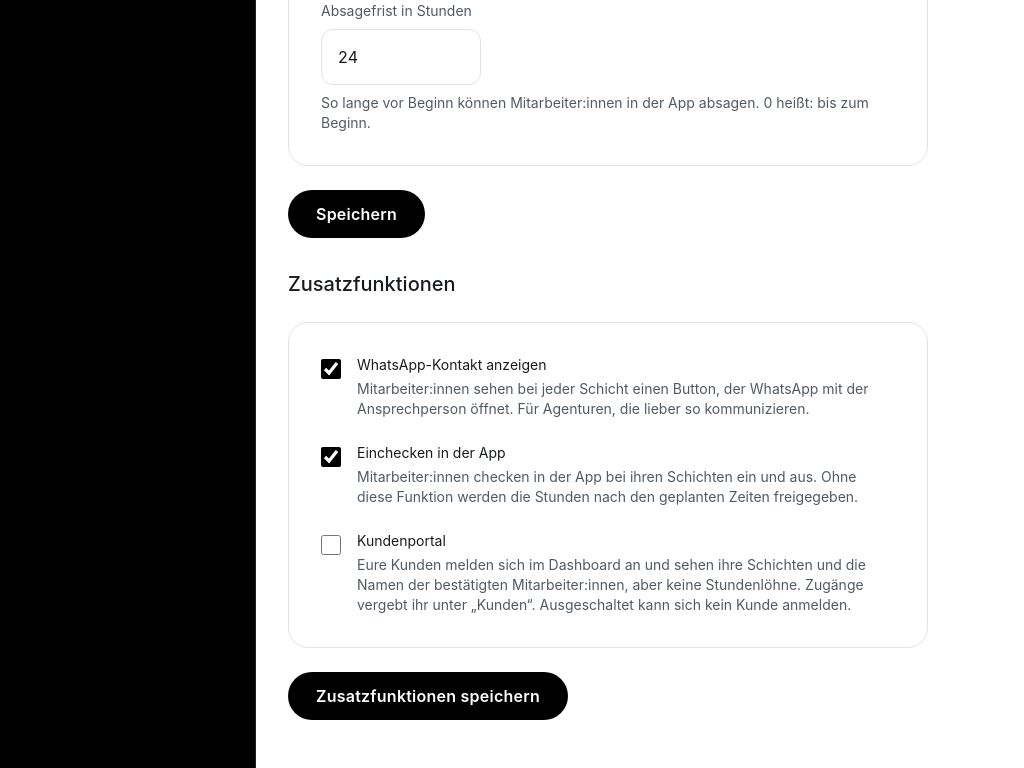
Test case: agency settings › lets an admin switch on the client portal and keeps the other features
(page scrolled)
Step 1. Click the checkbox labelled "Kundenportal" → click(331, 545), box [321, 535, 341, 555]
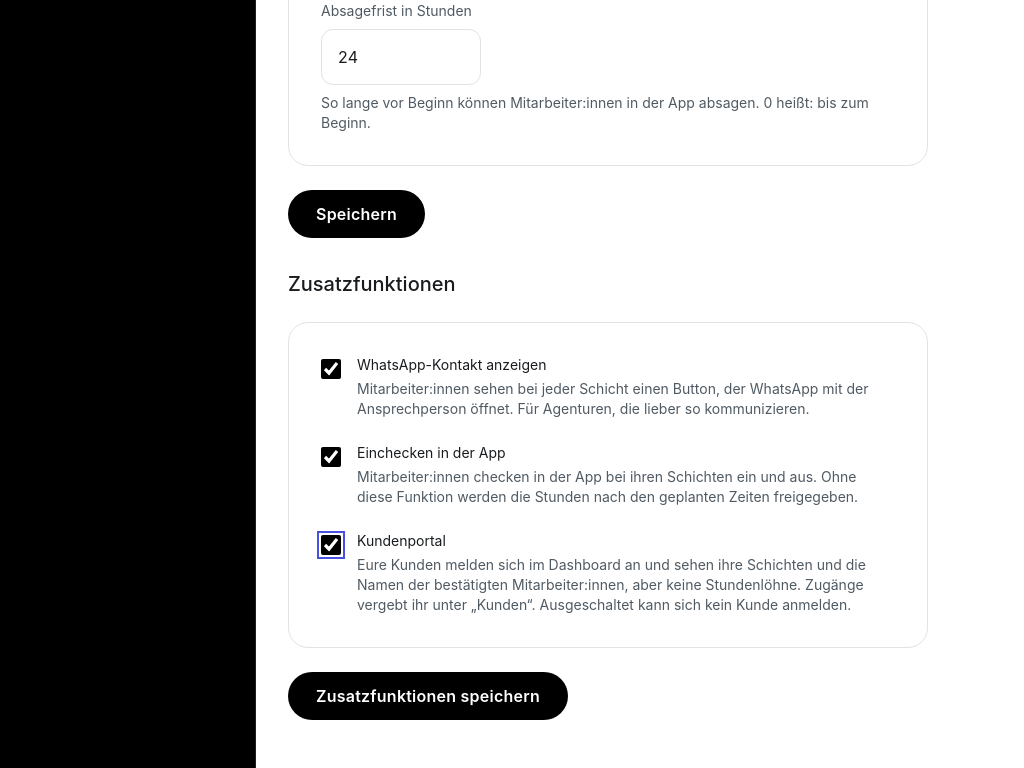
Step 2. Click the button "Zusatzfunktionen speichern" → click(428, 696), box [288, 672, 568, 720]
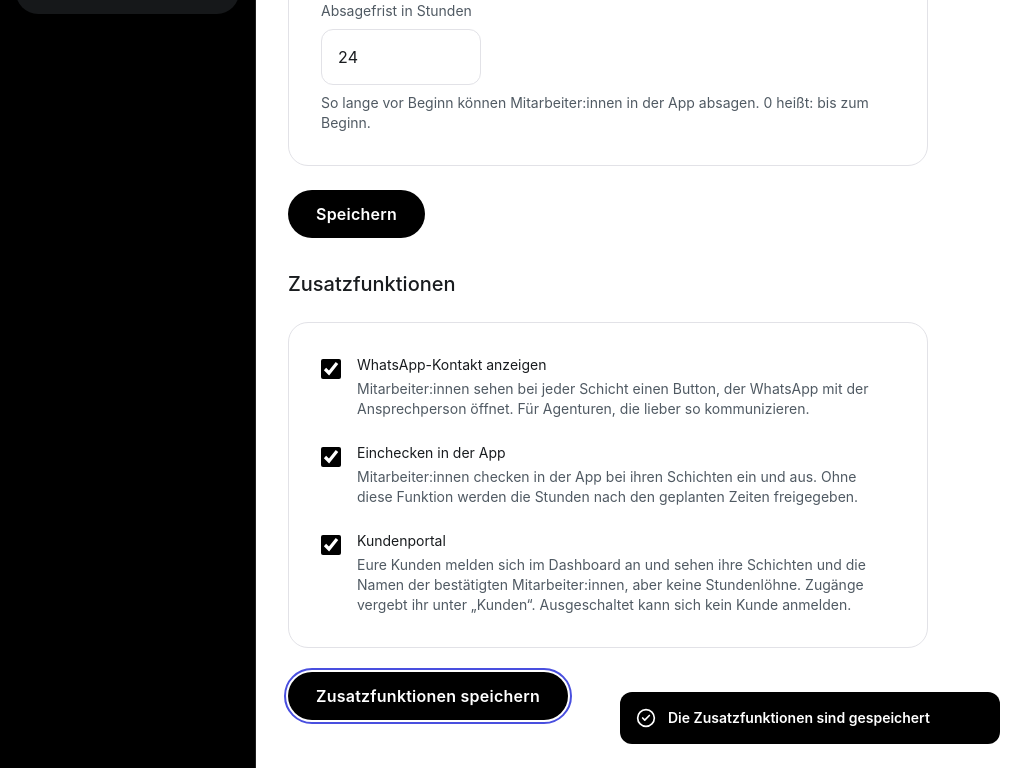
Expected: the text "Die Zusatzfunktionen sind gespeichert" is shown, [668, 708, 930, 728]
